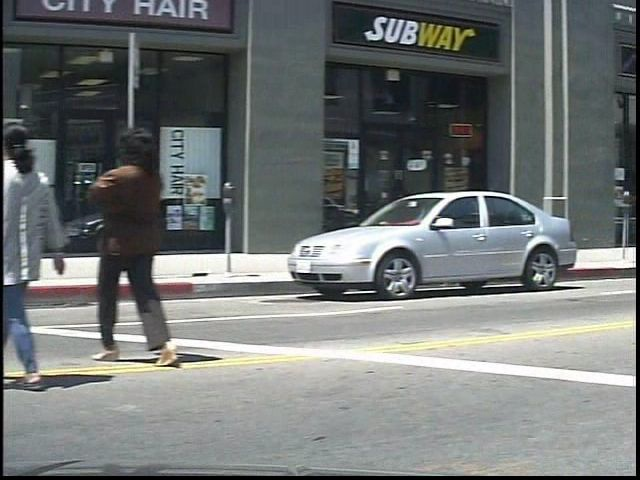person: (0, 115, 91, 389), (98, 121, 198, 369)
